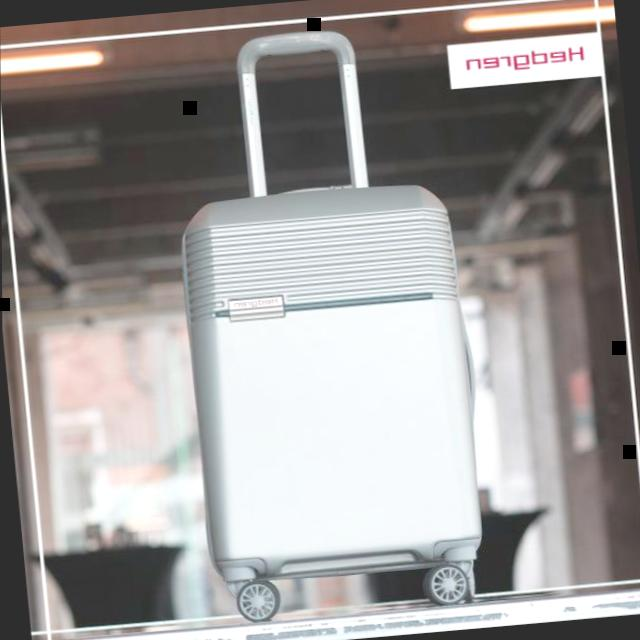luggage: (168, 167, 494, 598)
